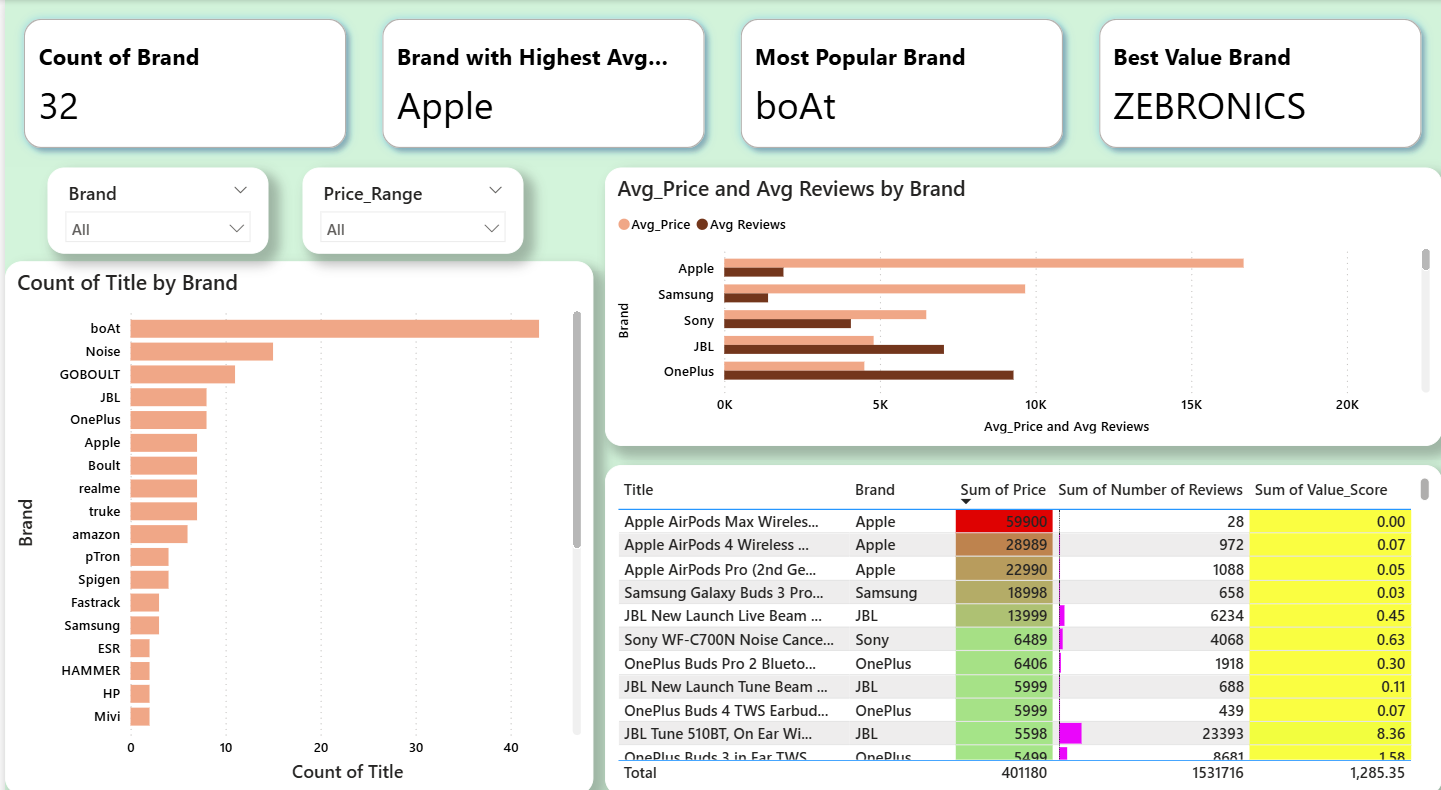

The page's visual inventory and layout, read from the dashboard file:
{"tool":"powerbi","page":{"name":"Page 2","canvas":[1280,720],"ordinal":1},"visuals":[{"type":"cardVisual","fields":{"Data":["Count(Sheet1.Brand)","Sheet1.Brand with Highest Avg Price","Sheet1.Most Popular Brand","Sheet1.Best Value Brand"]},"box":[0,0,1280.3,149.2],"z":0},{"type":"clusteredBarChart","fields":{"Category":["Sheet1.Brand"],"Y":["CountNonNull(Sheet1.Title)"]},"box":[0,244.6,524.6,475.7],"z":1000},{"type":"clusteredBarChart","fields":{"Y":["Sheet1.Avg_Price","Sheet1.Avg Reviews"],"Category":["Sheet1.Brand"]},"box":[534.4,149.2,745.9,248.2],"z":2000},{"type":"tableEx","fields":{"Values":["Sheet1.Title","Sheet1.Brand","Sum(Sheet1.Price)","Sum(Sheet1.Number of Reviews)","Sum(Sheet1.Value_Score)"]},"box":[534.5,413.8,745.6,294.4],"z":3000},{"type":"slicer","fields":{"Values":["Sheet1.Brand"]},"box":[37.9,149.2,196.9,77],"z":4000},{"type":"slicer","fields":{"Values":["Sheet1.Price_Range"]},"box":[265.4,149.2,196.9,77],"z":5000}]}

Visuals, with their boxes in screenshot pixels (x1, y1, x2, y2), scaled from the page's 1280x720 canvas onto the 1441x790 screenshot:
cardVisual - Count(Sheet1.Brand) x Sheet1.Brand with Highest Avg Price: (0, 0, 1440, 164)
clusteredBarChart - Sheet1.Brand x CountNonNull(Sheet1.Title): (0, 268, 591, 789)
clusteredBarChart - Sheet1.Avg_Price x Sheet1.Avg Reviews: (602, 164, 1440, 436)
tableEx - Sheet1.Title x Sheet1.Brand: (602, 454, 1440, 777)
slicer - Sheet1.Brand: (43, 164, 264, 248)
slicer - Sheet1.Price_Range: (299, 164, 520, 248)
